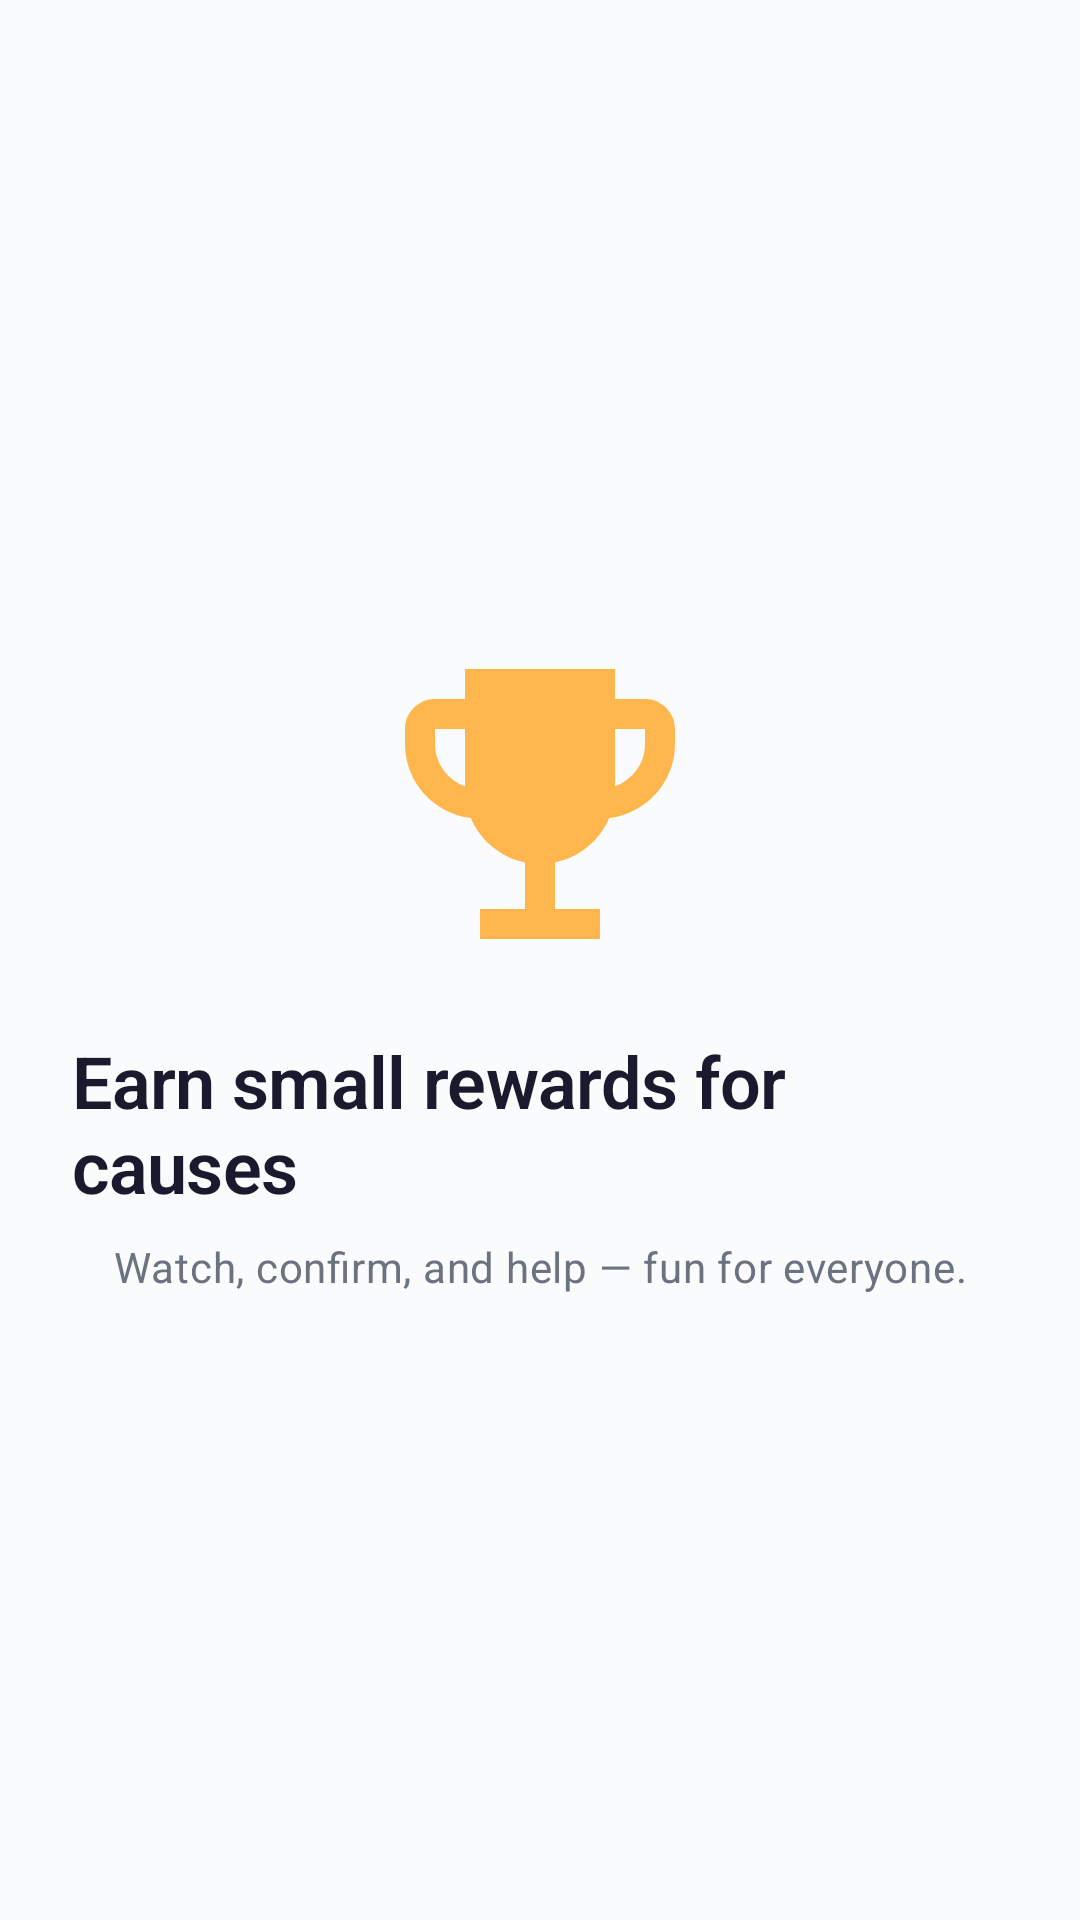

Point at icon controls on the screen. Image size 1080×1920, points as point (x, y).
trophy: point (540, 804)
